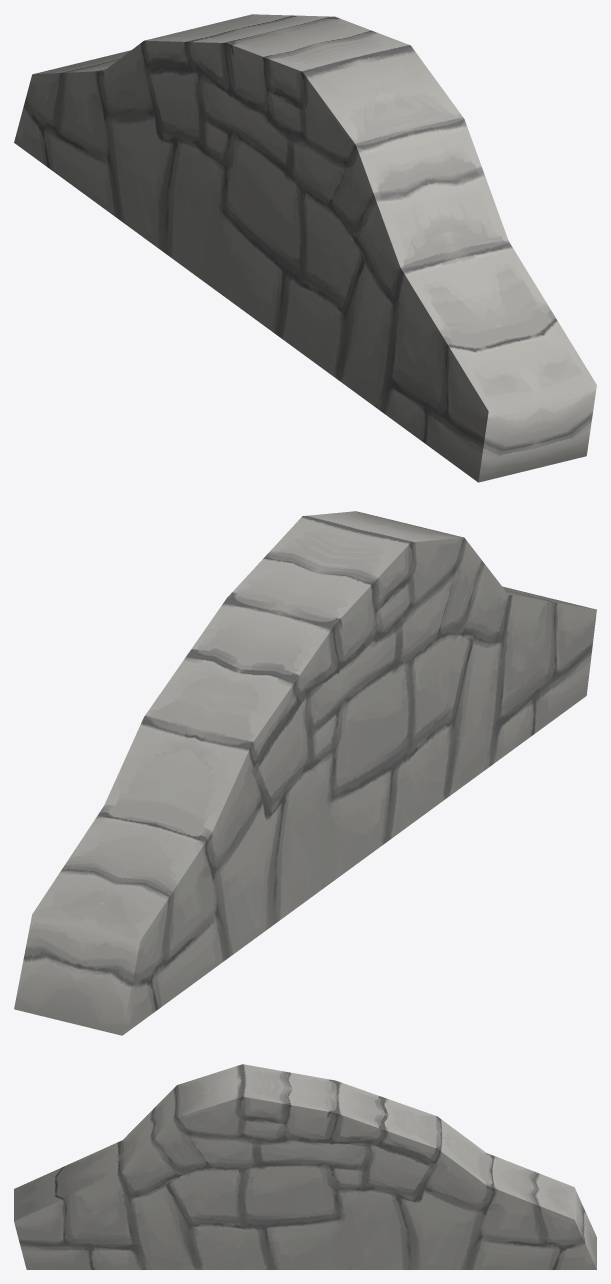
The model's file is RuinedWall02_Geo.fbx.
3 renders of one model, top to bottom at view 1: azimuth 30°, elevation 25°; view 2: azimuth 150°, elevation 25°; view 3: azimuth 270°, elevation 25°, orthographic. The views are drawn at different scales.
Parts seen in each view (by area): view 1: RuinedWall02_Geo; view 2: RuinedWall02_Geo; view 3: RuinedWall02_Geo.
Boxes of the visible parts, box(x1,y1,x2,y2) form: RuinedWall02_Geo: box(14, 14, 596, 482); RuinedWall02_Geo: box(14, 511, 596, 1035); RuinedWall02_Geo: box(14, 1064, 596, 1269).
Bounding box in the file's own units: 26.12 × 64.98 × 198.
